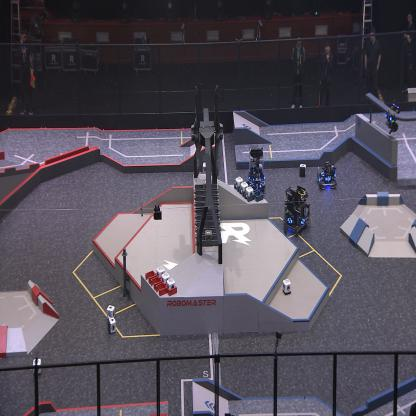car: (283, 185, 311, 234), (246, 146, 267, 192), (317, 160, 337, 190)
